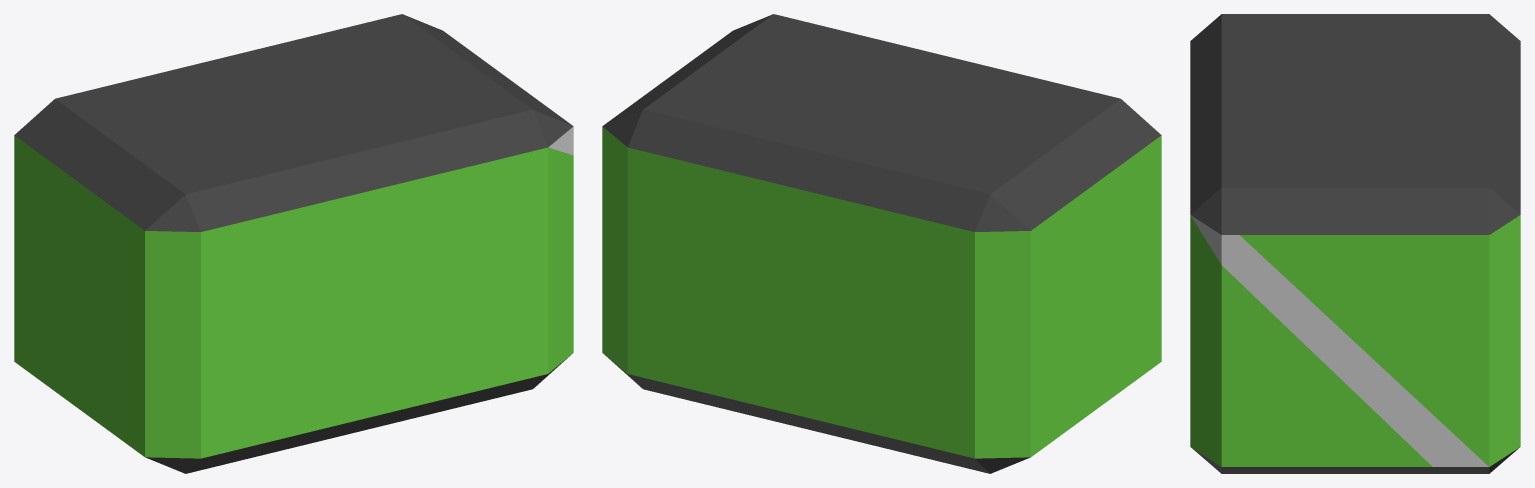
File: SmallCase2.fbx
The picture shows the model from 3 angles, left to right: view 1: azimuth 30°, elevation 25°; view 2: azimuth 150°, elevation 25°; view 3: azimuth 270°, elevation 25°; orthographic projection. The views are drawn at different scales.
Visible parts, largest first — view 1: Cube.040; view 2: Cube.040; view 3: Cube.040.
Boxes of the visible parts, box(x1,y1,x2,y2) form: Cube.040: box(14, 14, 573, 473); Cube.040: box(602, 14, 1161, 473); Cube.040: box(1190, 14, 1520, 473).
Size of the model in its own units: 72.28 by 45.05 by 47.11.
